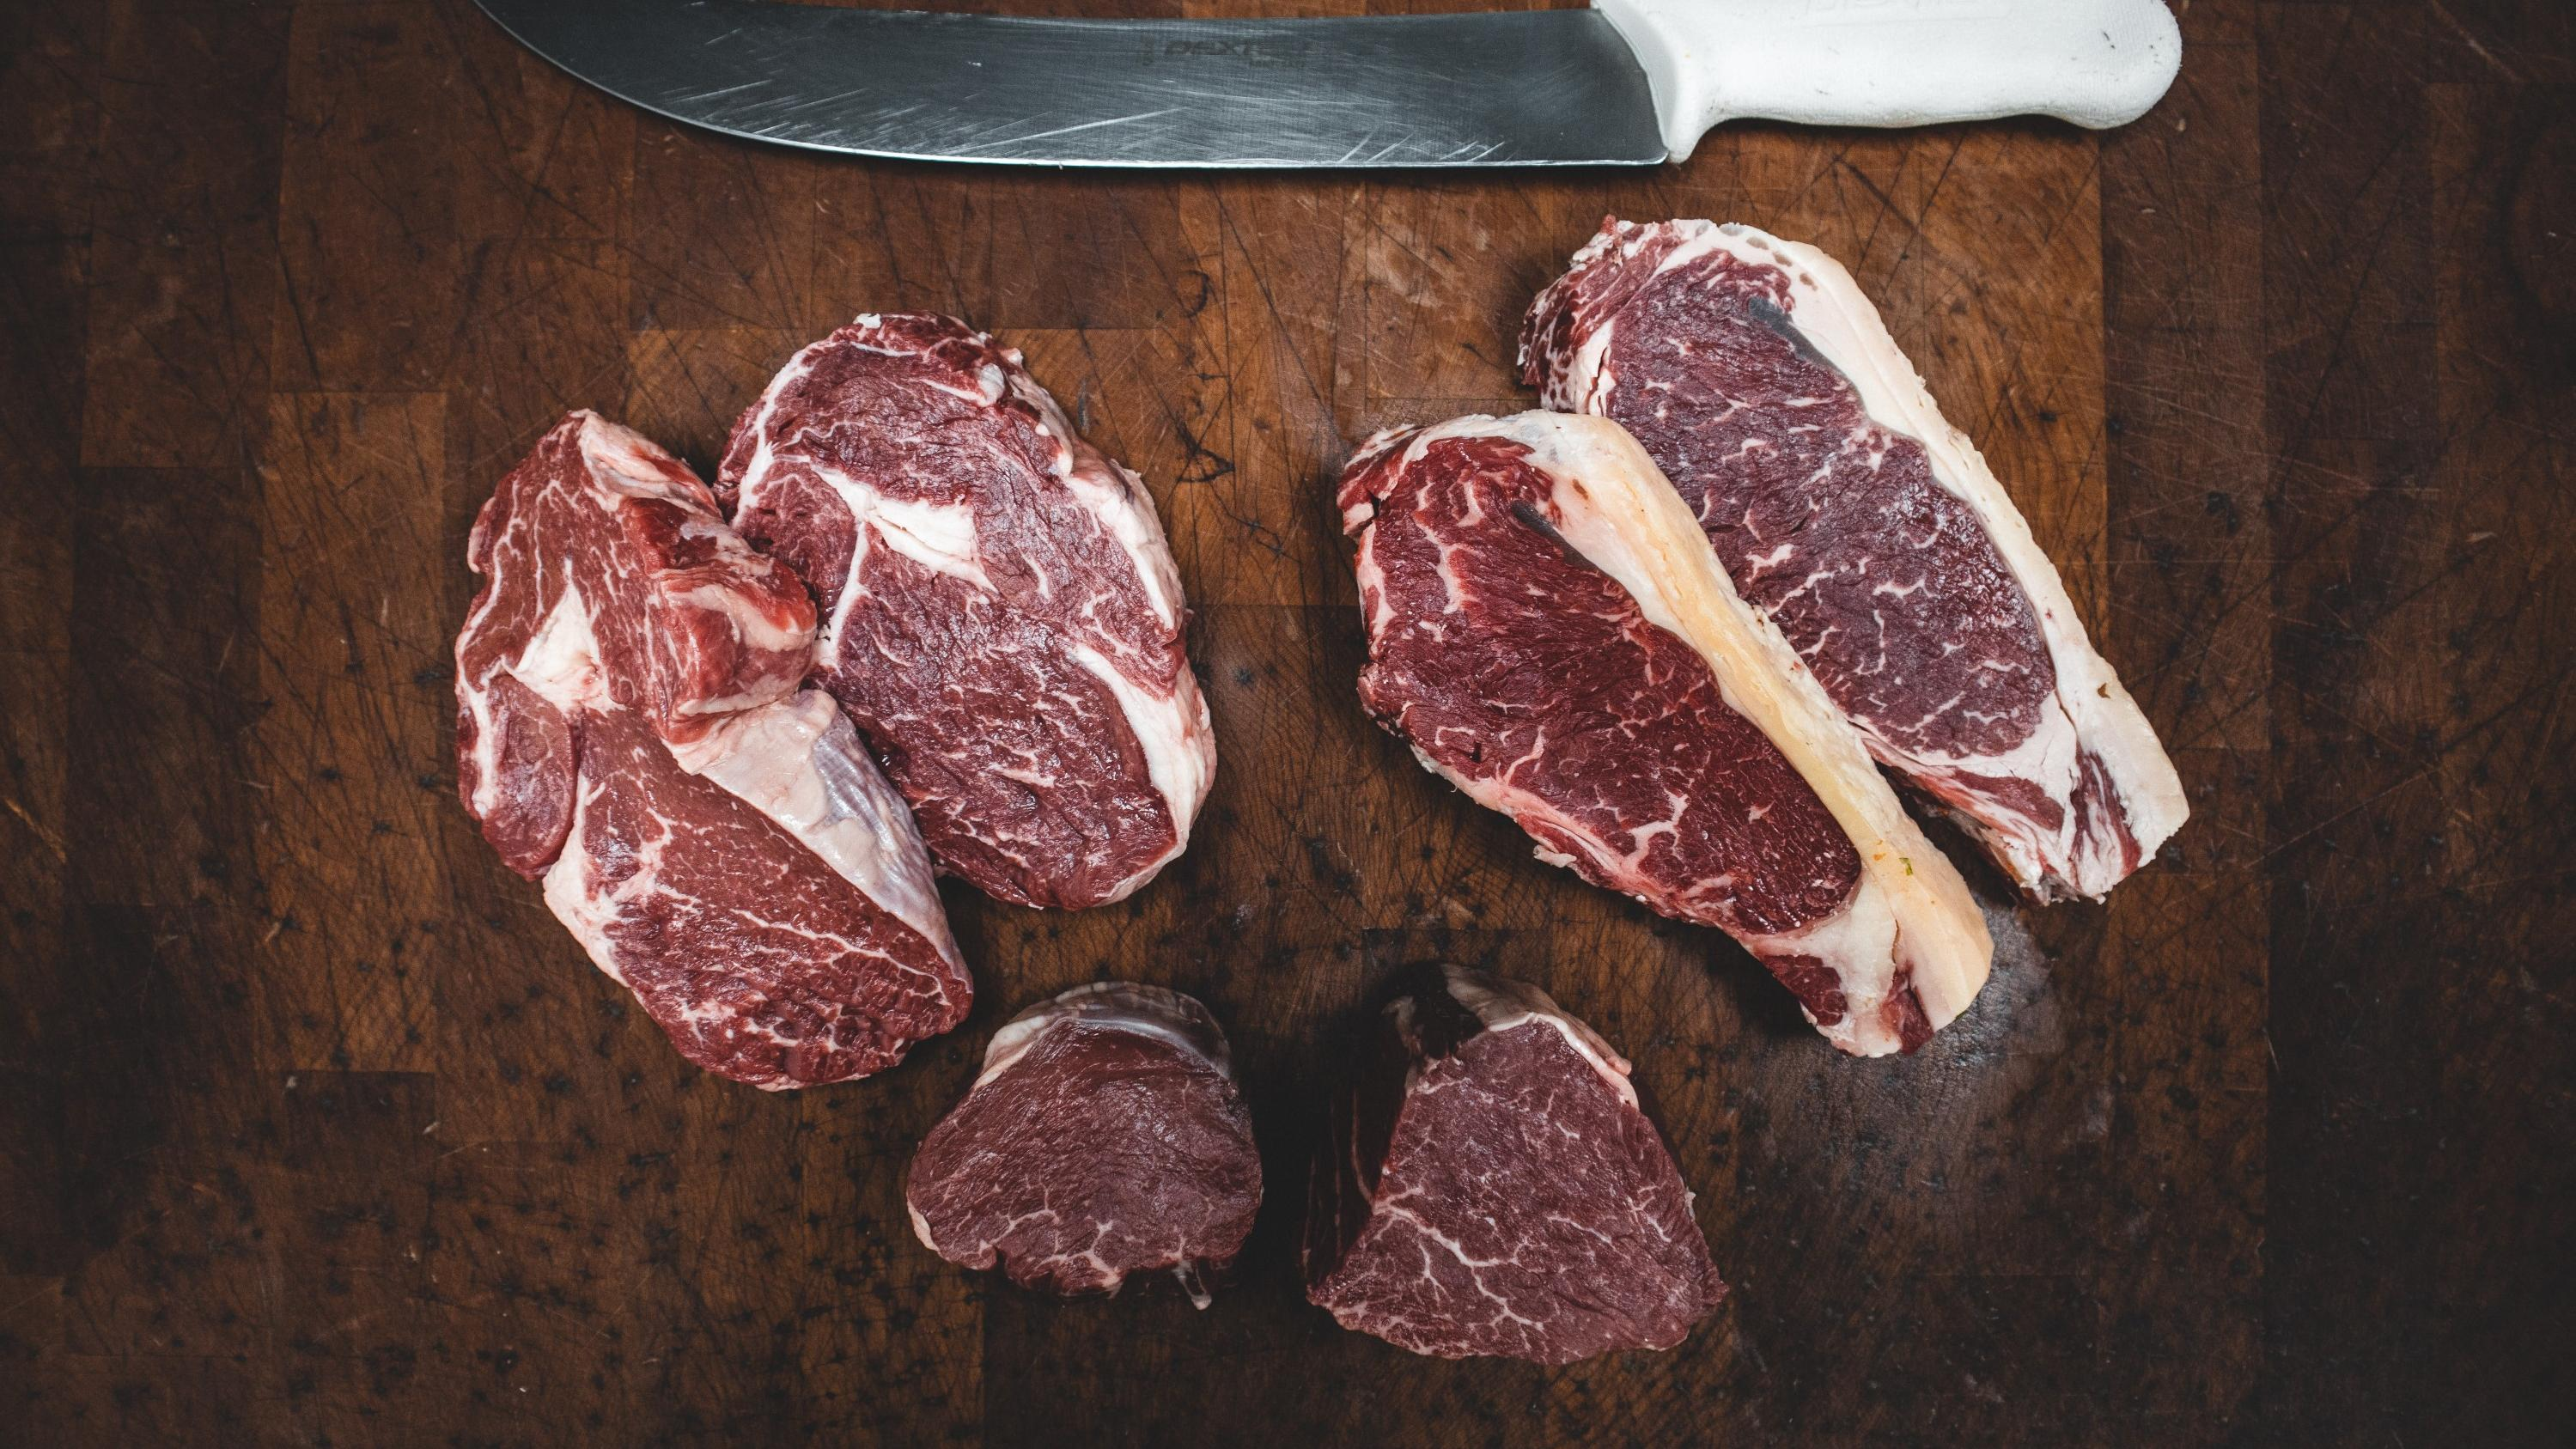beef: (1288, 950, 2576, 1449), (1645, 816, 2576, 1449), (1771, 761, 2576, 1449)
